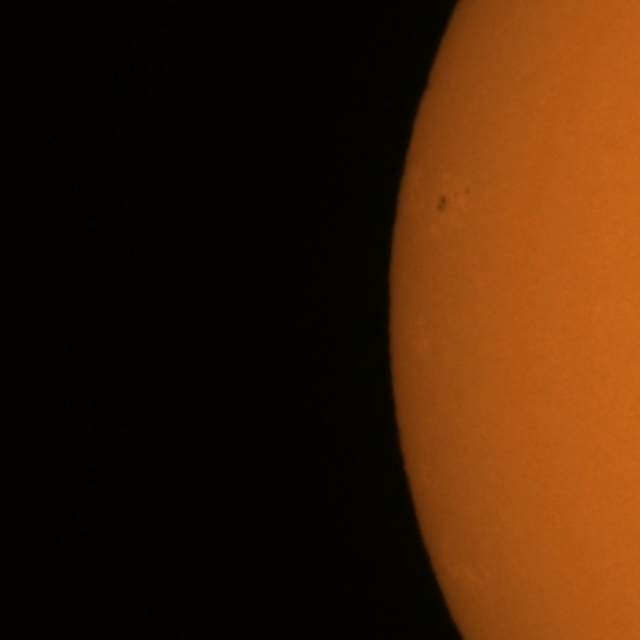sunspot: (434, 186, 472, 215), (435, 193, 449, 215)
